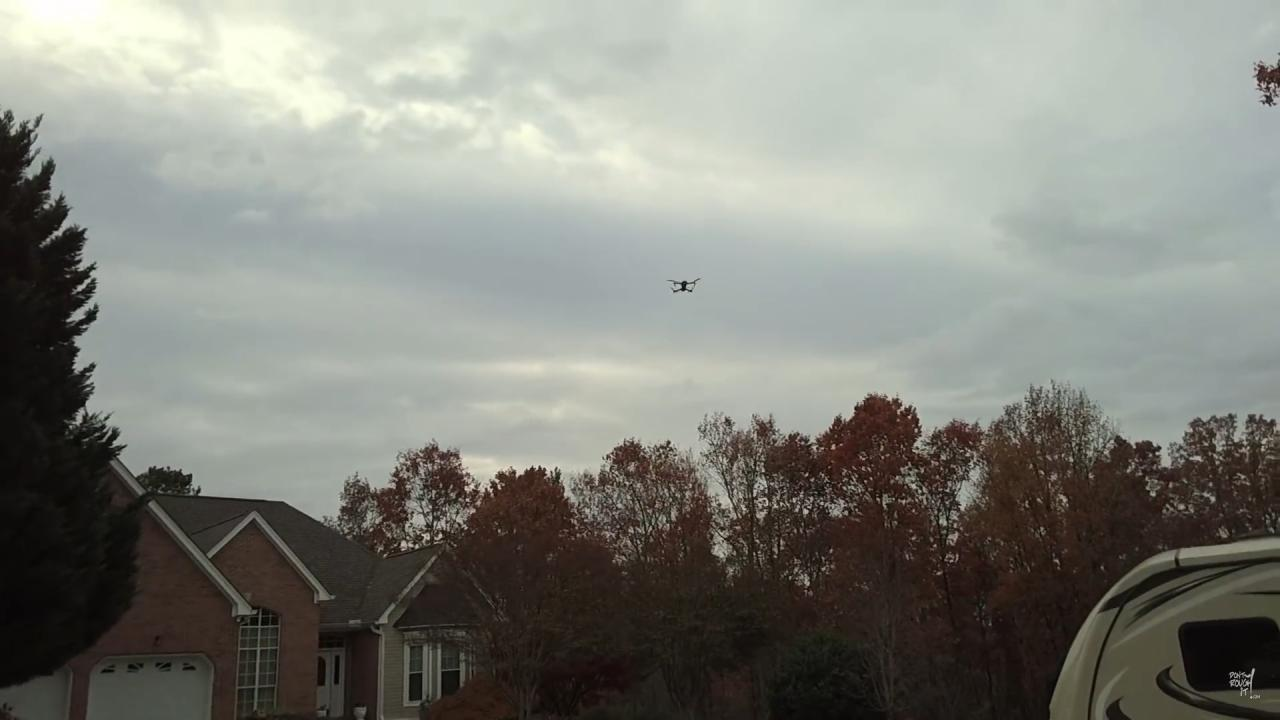Drone: (665, 276, 702, 296)
